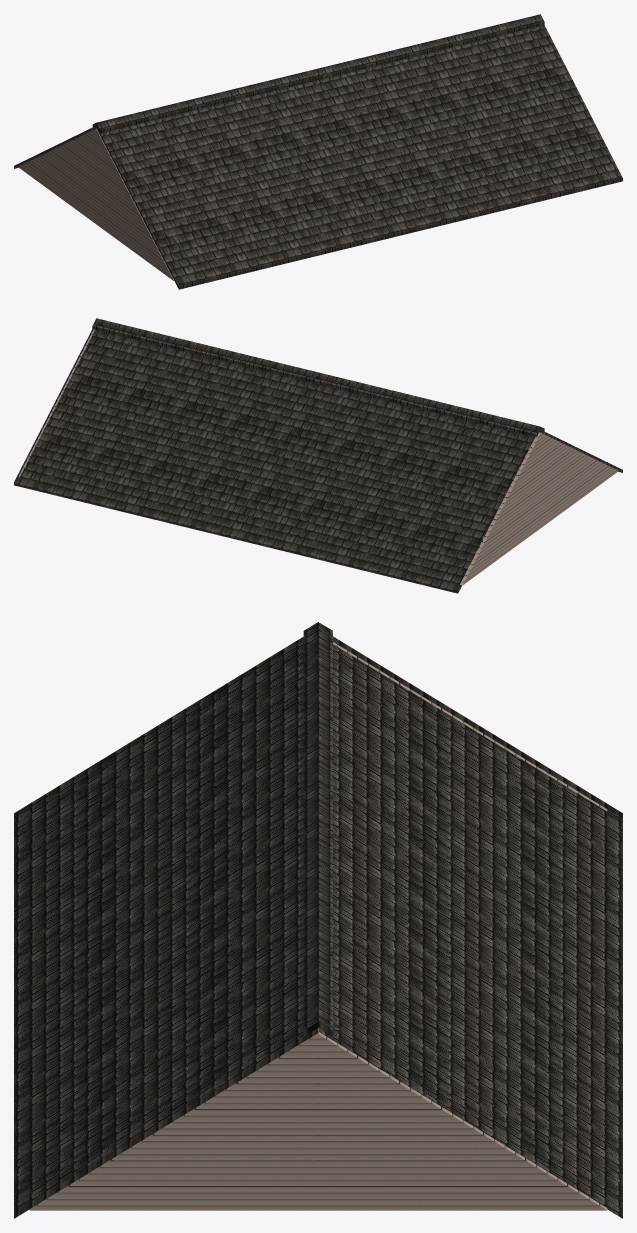
The model's file is roof.glb.
3 views of the same model, one above another, from view 1: azimuth 30°, elevation 25°; view 2: azimuth 150°, elevation 25°; view 3: azimuth 270°, elevation 25° (orthographic). The views are drawn at different scales.
Parts seen in each view (by area): view 1: outerwalls-androof-col.005, outerwalls-androof-col.006, outerwalls-androof-col.007, outerwalls-androof-col.003; view 2: outerwalls-androof-col.009, outerwalls-androof-col.006, outerwalls-androof-col.003, outerwalls-androof-col.007; view 3: outerwalls-androof-col.005, outerwalls-androof-col.009, outerwalls-androof-col.008, outerwalls-androof-col.004, outerwalls-androof-col.006, outerwalls-androof-col.003.
Part boxes in pixels (x1,y1,x2,y2): outerwalls-androof-col.005: [96, 25, 622, 289]; outerwalls-androof-col.006: [92, 14, 544, 133]; outerwalls-androof-col.007: [96, 128, 174, 281]; outerwalls-androof-col.003: [18, 129, 95, 223]; outerwalls-androof-col.009: [14, 329, 540, 593]; outerwalls-androof-col.006: [92, 318, 544, 437]; outerwalls-androof-col.003: [460, 432, 540, 585]; outerwalls-androof-col.007: [541, 433, 618, 527]; outerwalls-androof-col.005: [14, 636, 318, 1218]; outerwalls-androof-col.009: [318, 636, 622, 1218]; outerwalls-androof-col.008: [318, 1032, 607, 1210]; outerwalls-androof-col.004: [29, 1032, 318, 1210]; outerwalls-androof-col.006: [303, 622, 332, 1036]; outerwalls-androof-col.003: [333, 642, 607, 811].
Size of the model in its own units: 30.28 by 6.92 by 19.4.
3 materials, 3 textured.
